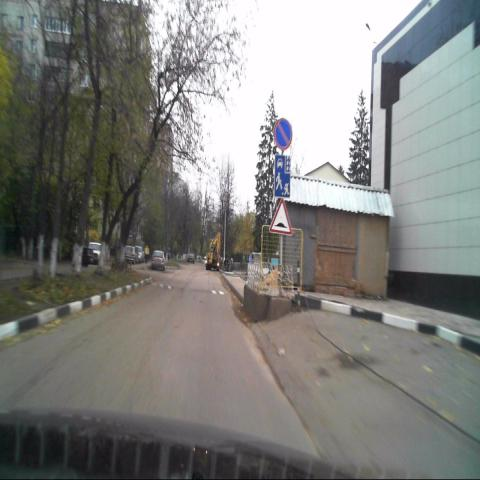1_17: (269, 198, 291, 234)
3_28: (274, 118, 292, 151)
5_21: (274, 155, 290, 197)
